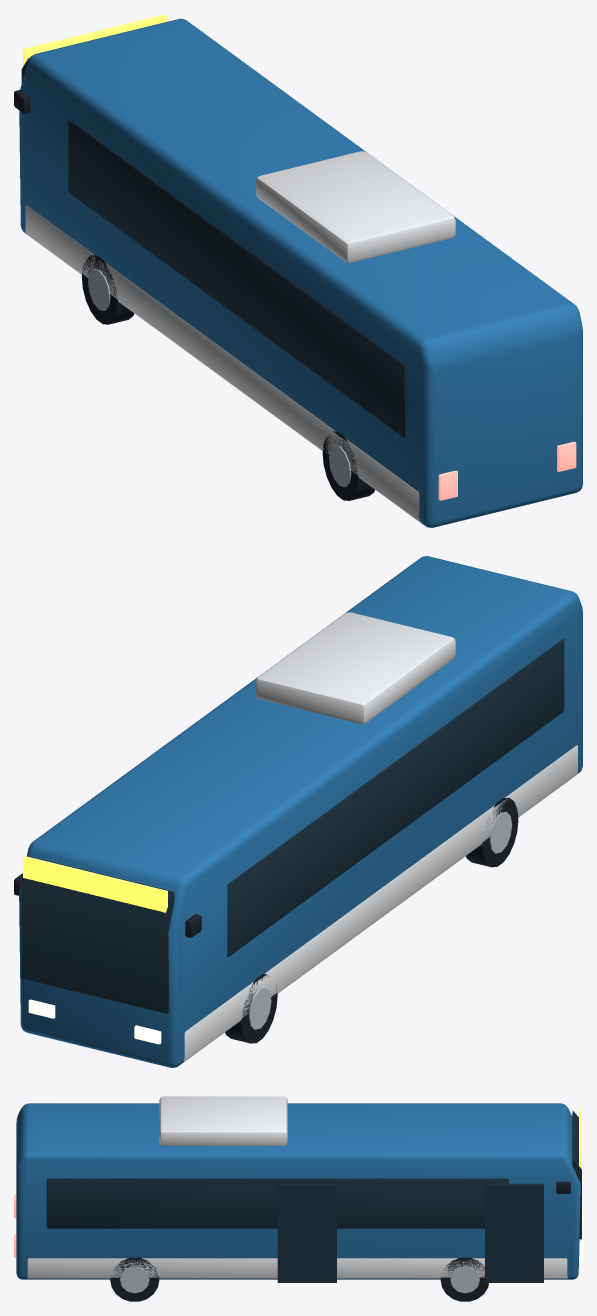
The model's file is bus.glb.
3 views of the same model, one above another, from view 1: azimuth 30°, elevation 25°; view 2: azimuth 150°, elevation 25°; view 3: azimuth 270°, elevation 25° (orthographic). The views are drawn at different scales.
Visible parts, largest first — view 1: prism; view 2: prism; view 3: prism.
Boxes of the visible parts, bbox=[...] form: prism: bbox=[14, 14, 582, 527]; prism: bbox=[14, 556, 582, 1067]; prism: bbox=[14, 1096, 582, 1301].
Bounding box in the file's own units: 2.87 × 3.62 × 11.54.
